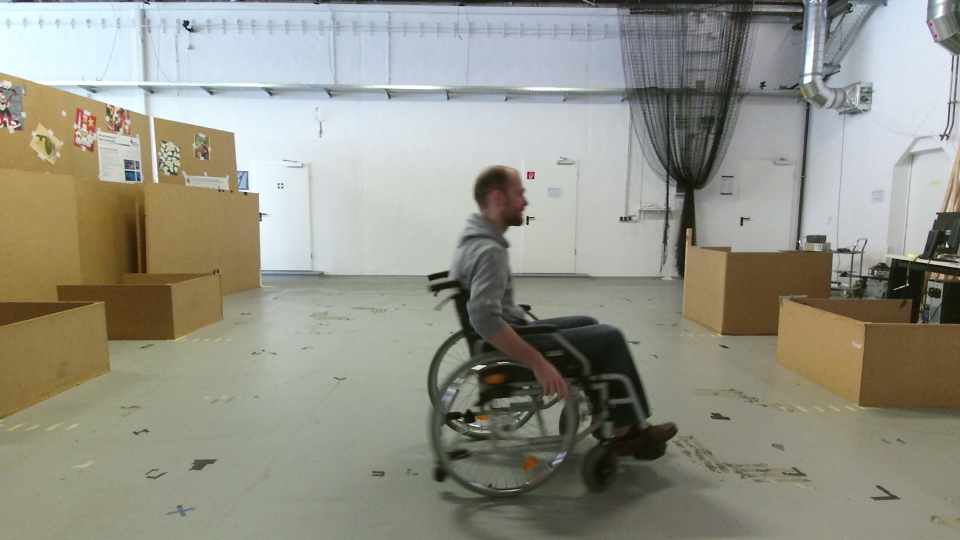wheelchair: (421, 158, 688, 509)
